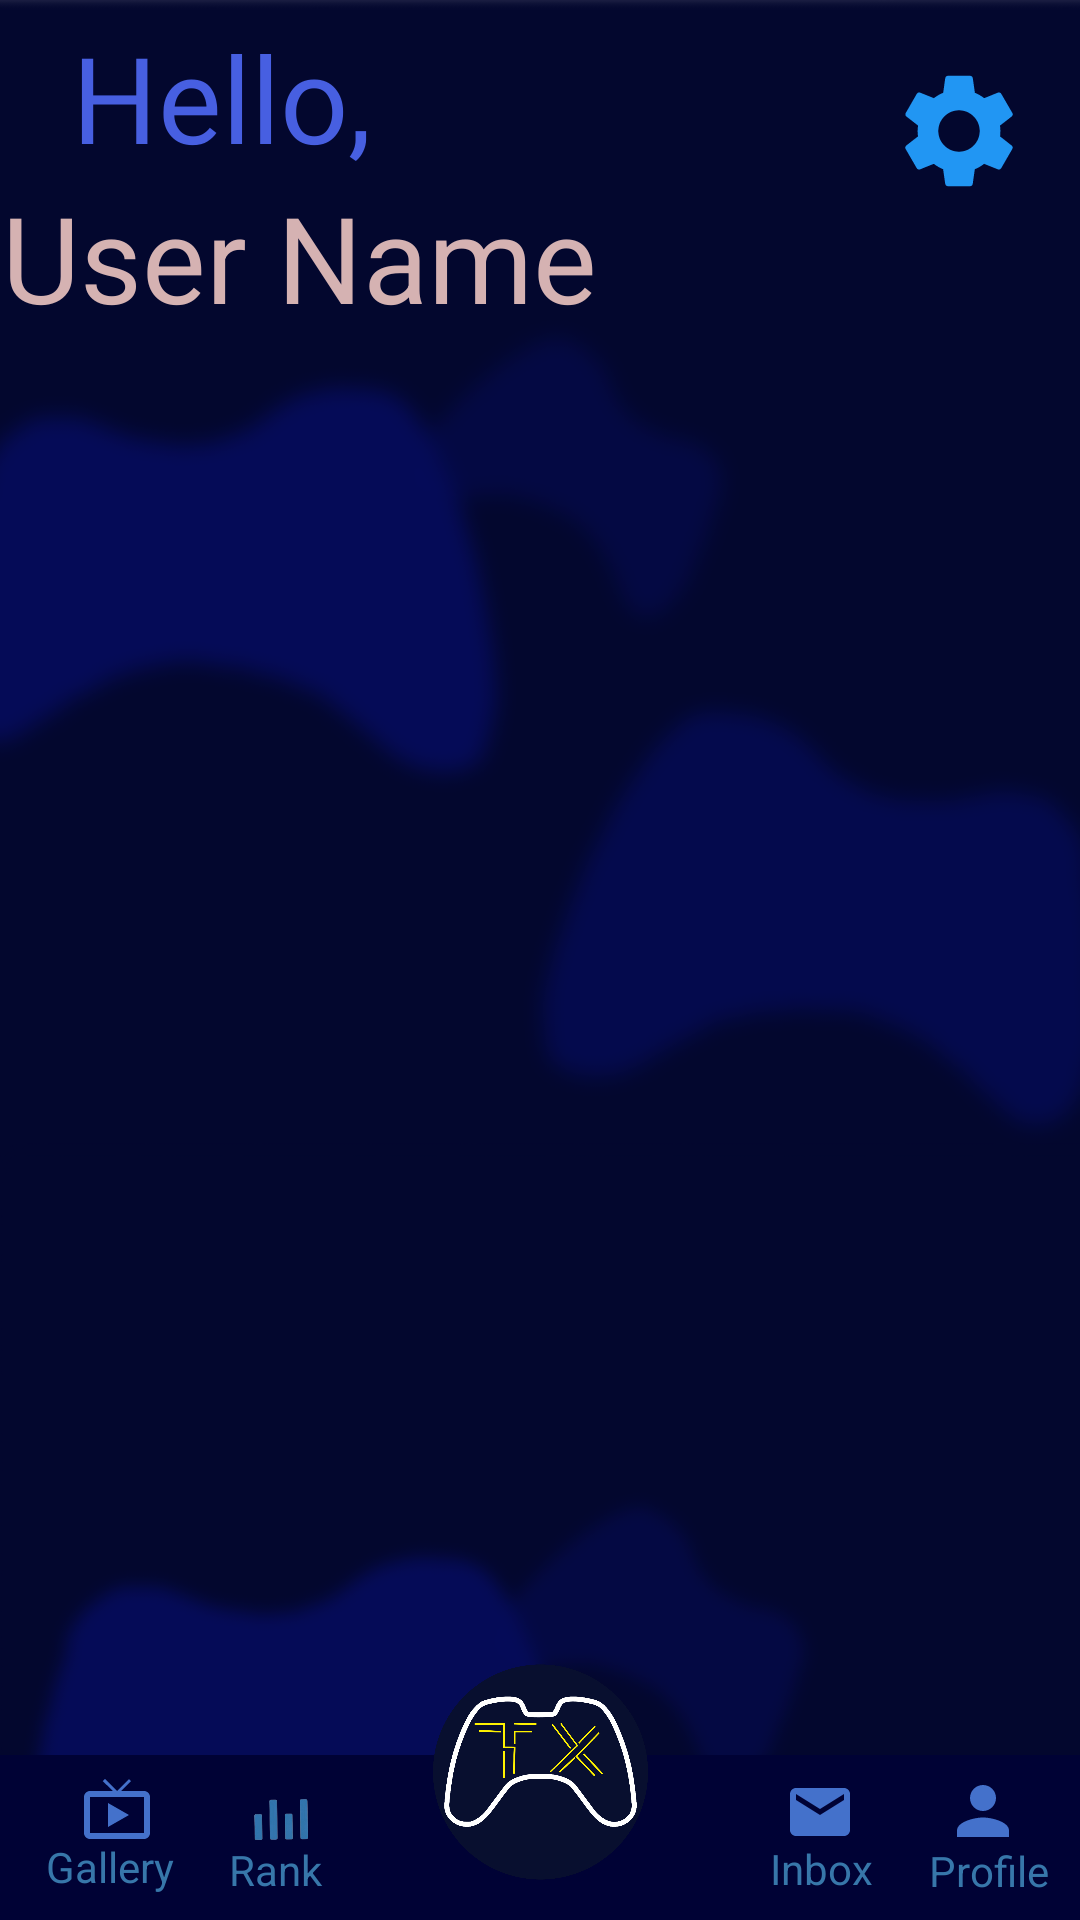

Named icons in this screenshot (1080w x 1920h) and their centers, [x,y]:
live tv: [117,1809]
settings: [959,131]
txicon: [540,1754]
